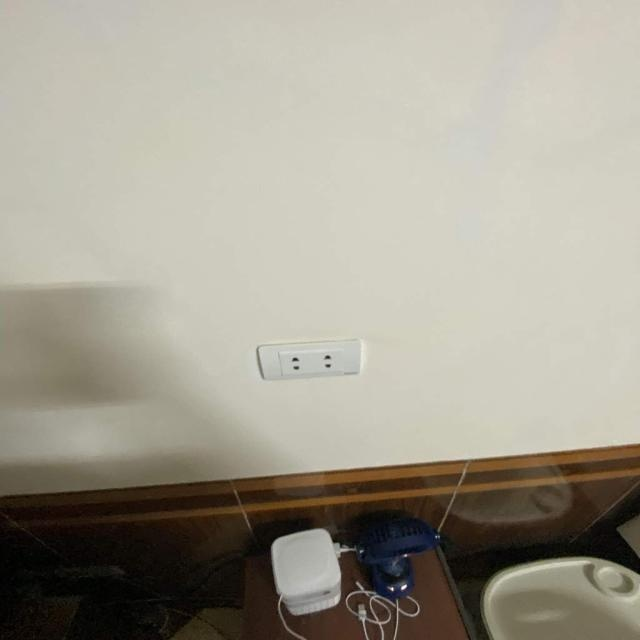outlet: (256, 338, 362, 380)
